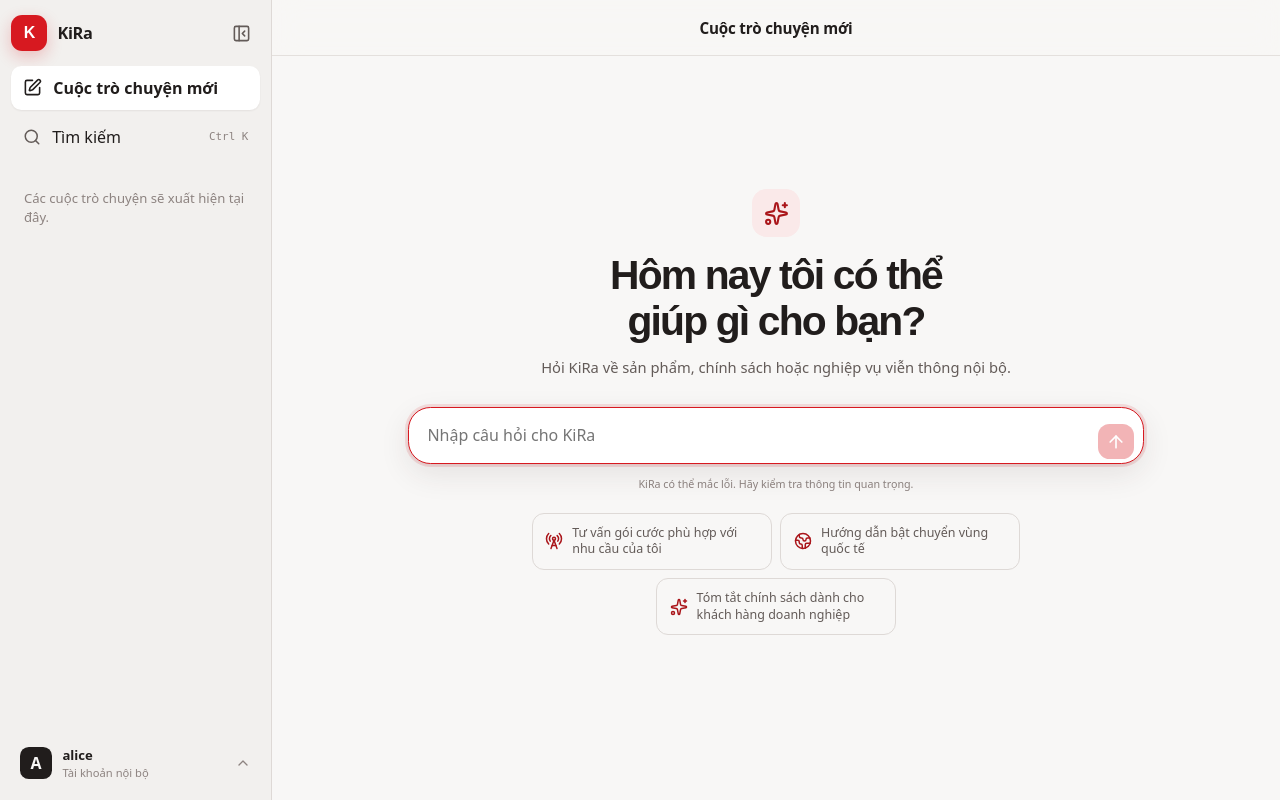
Test: application authentication routes › rehydrates the user and exposes account actions
Expected: the text "alice" is shown, [62,746,93,764]
Click the button with aria-label "Mở menu tài khoản".
click(136, 763)  # box [11,738,260,789]
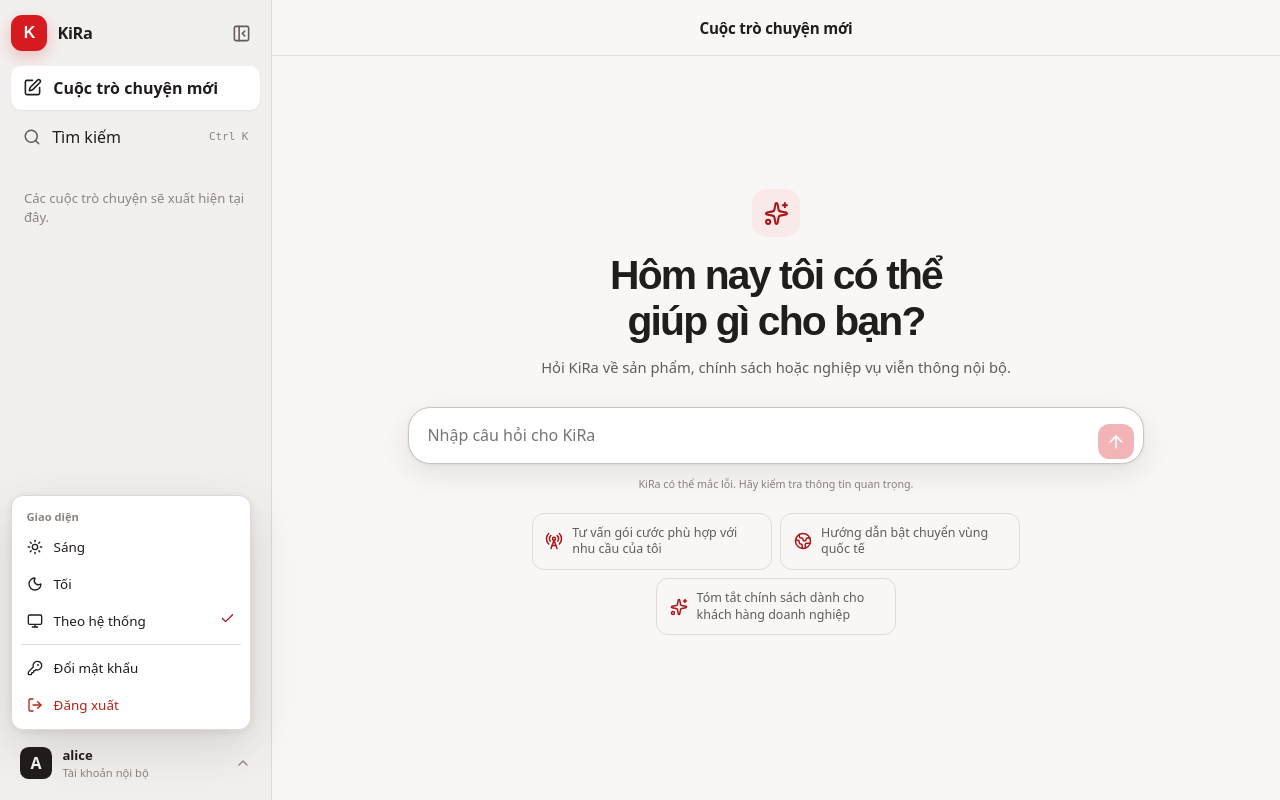
Expected: the menu item "Đăng xuất" is enabled, [27,696,119,714]
